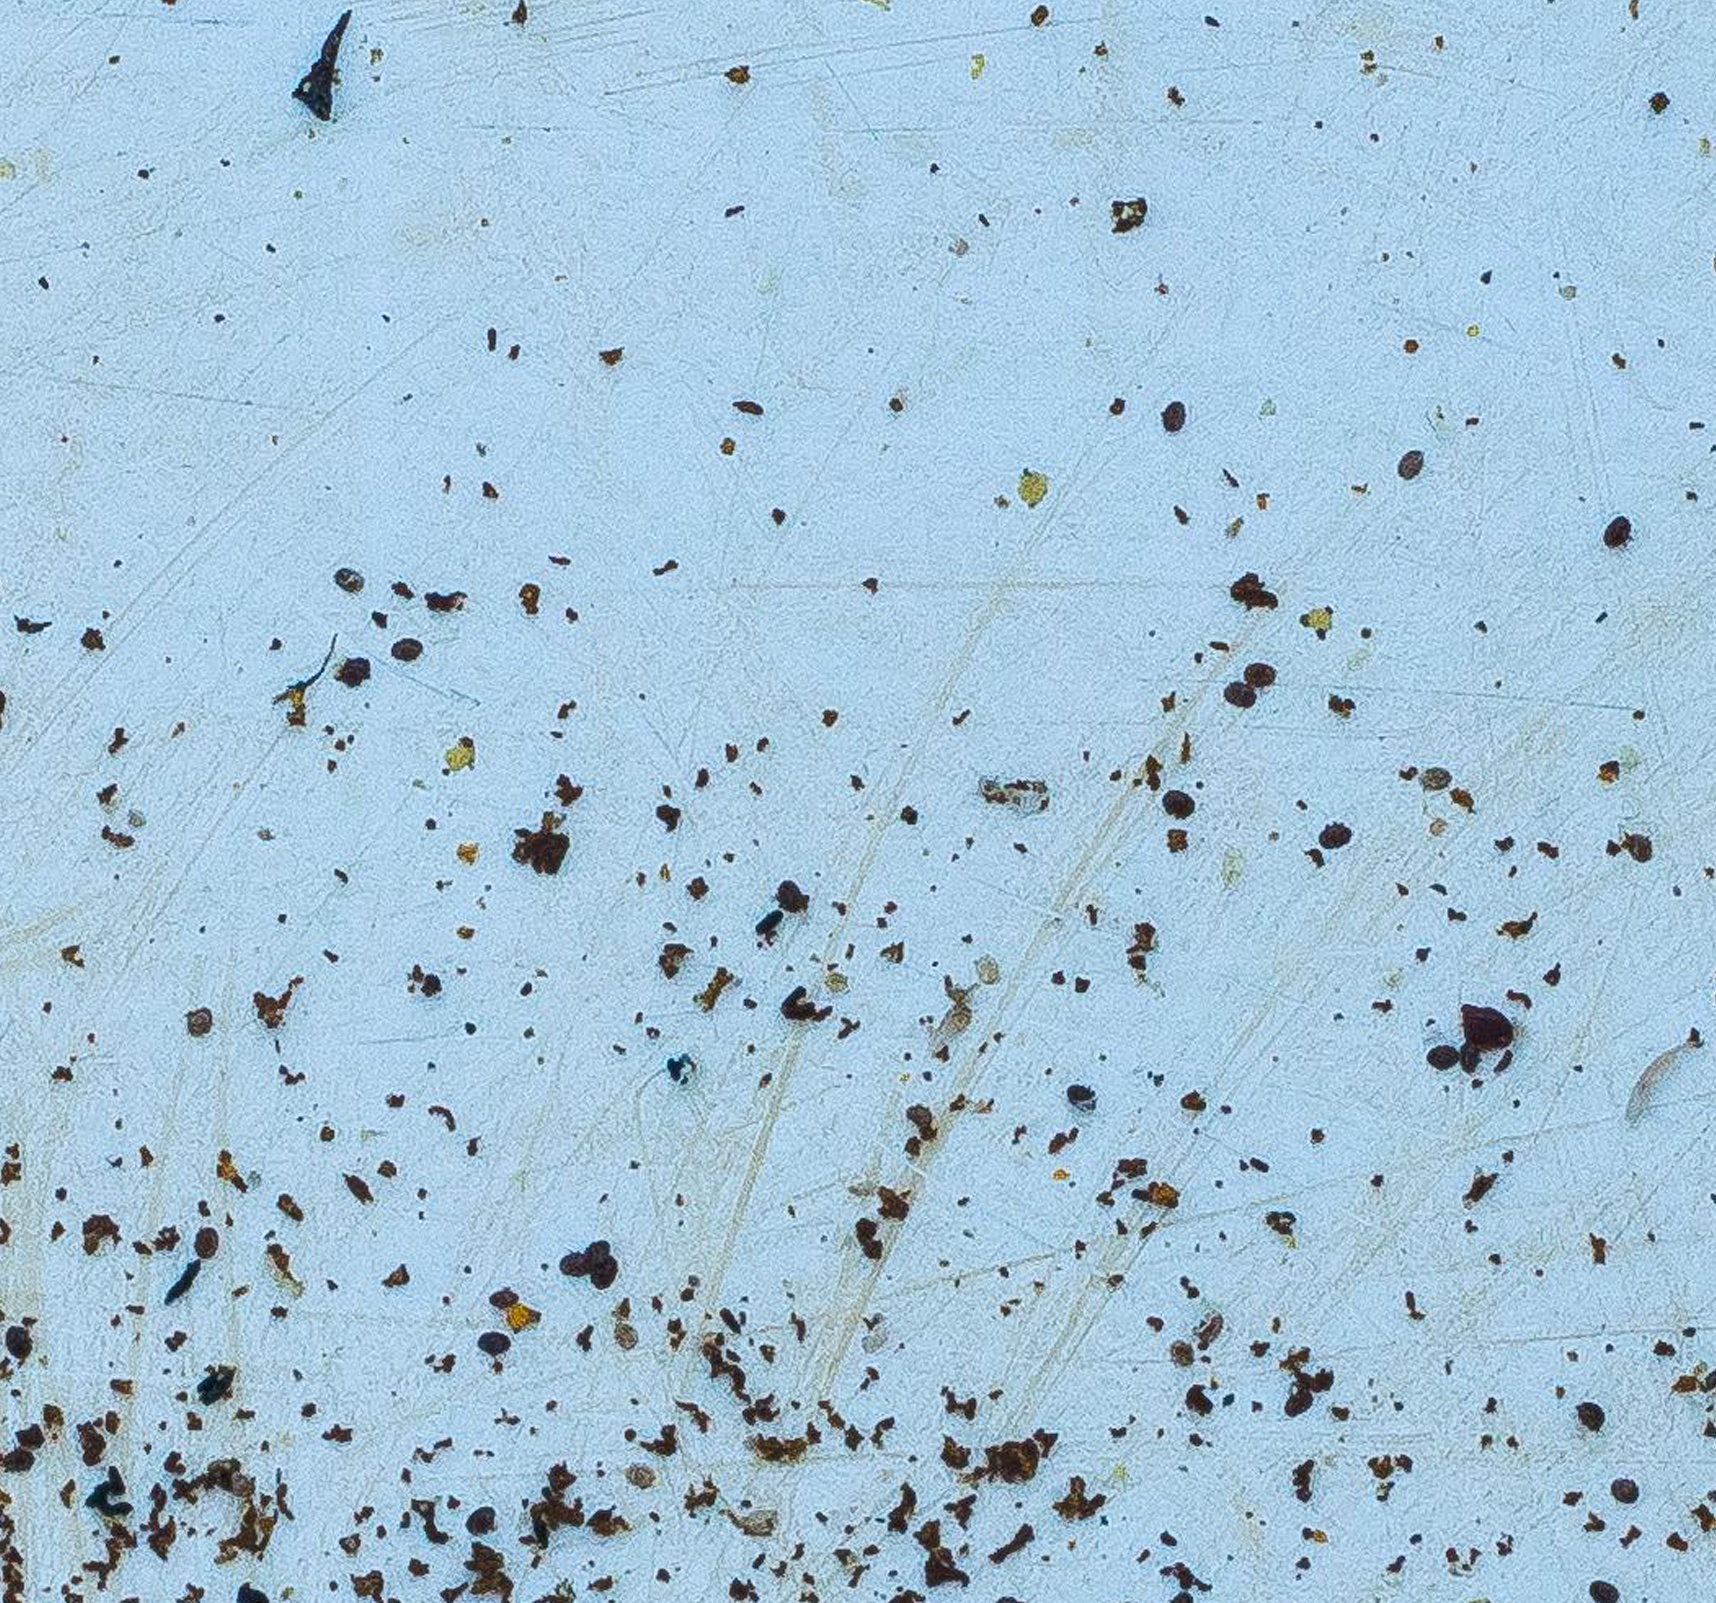Varroa: (327, 556, 374, 603), (1237, 651, 1284, 698), (469, 1318, 515, 1365), (1150, 393, 1196, 438), (1385, 441, 1431, 487), (386, 625, 432, 670), (1217, 672, 1263, 719), (1413, 753, 1458, 800), (1418, 1034, 1464, 1079), (182, 1219, 227, 1266), (463, 1499, 509, 1544), (1603, 1469, 1648, 1516), (1598, 509, 1644, 554), (1154, 779, 1199, 824), (1311, 811, 1356, 856), (1620, 823, 1665, 868), (768, 875, 814, 921), (553, 1241, 598, 1287), (573, 1228, 618, 1273), (1059, 1074, 1104, 1119), (1568, 1397, 1614, 1440)
